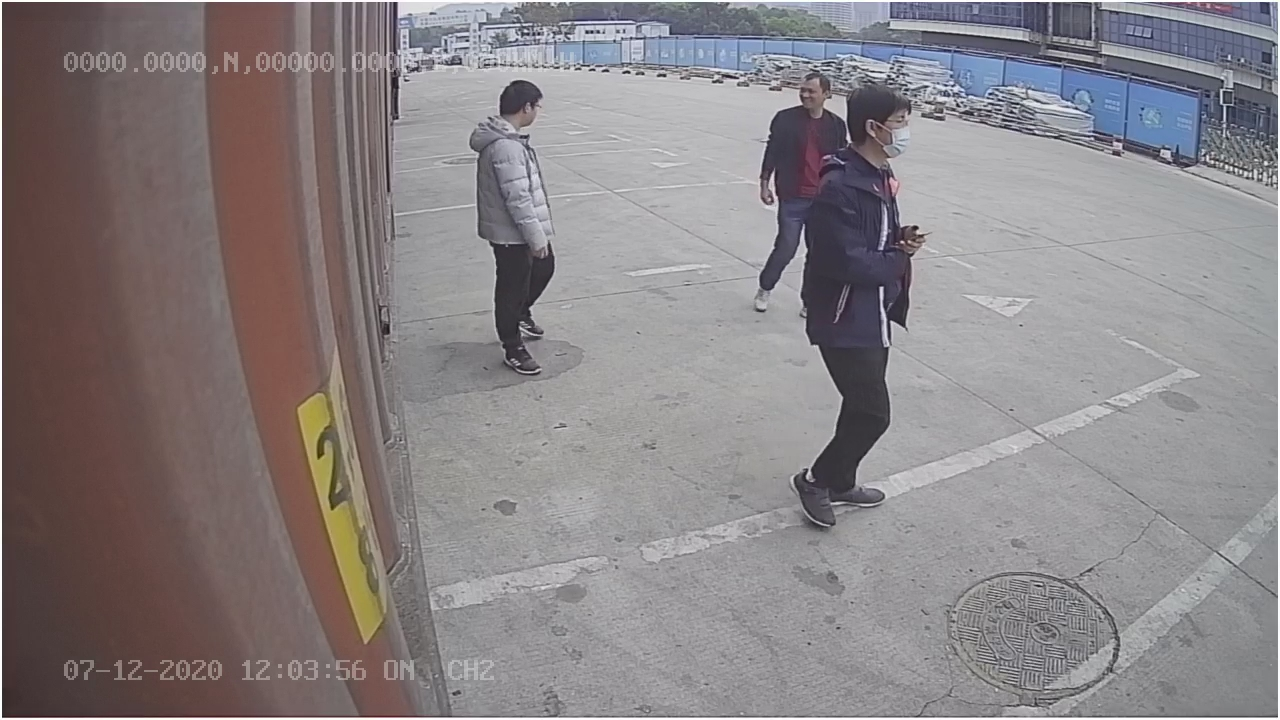person: (466, 77, 565, 375)
